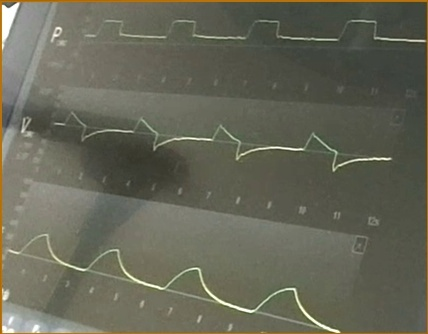Normal Flow: (55, 108, 393, 177)
Normal Volume: (8, 230, 342, 331)
